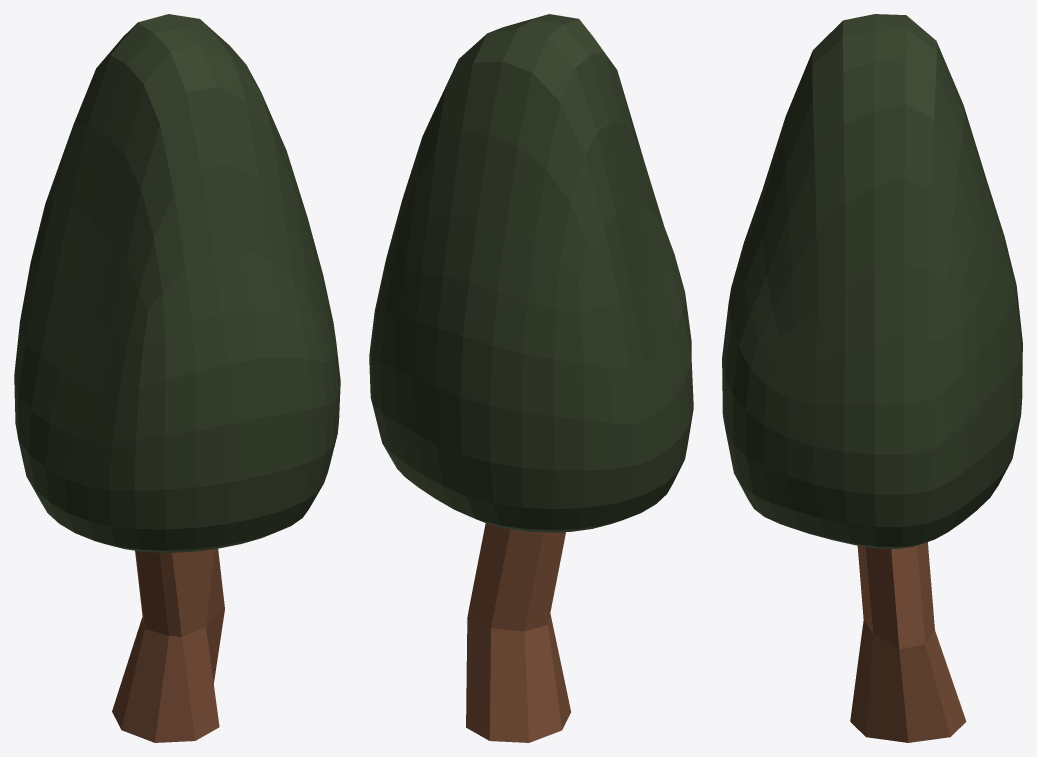
File: tree 3.fbx
The picture shows the model from 3 angles, left to right: view 1: azimuth 30°, elevation 25°; view 2: azimuth 150°, elevation 25°; view 3: azimuth 270°, elevation 25°; orthographic projection. The views are drawn at different scales.
Visible parts, largest first — view 1: Cube.001, Cube; view 2: Cube.001, Cube; view 3: Cube.001, Cube.
Part boxes in pixels (x1,y1,x2,y2): Cube.001: [14, 14, 340, 552]; Cube: [112, 548, 224, 742]; Cube.001: [369, 14, 693, 532]; Cube: [466, 523, 570, 742]; Cube.001: [722, 14, 1022, 548]; Cube: [850, 542, 966, 742].
Size of the model in its own units: 303 by 713 by 280.
